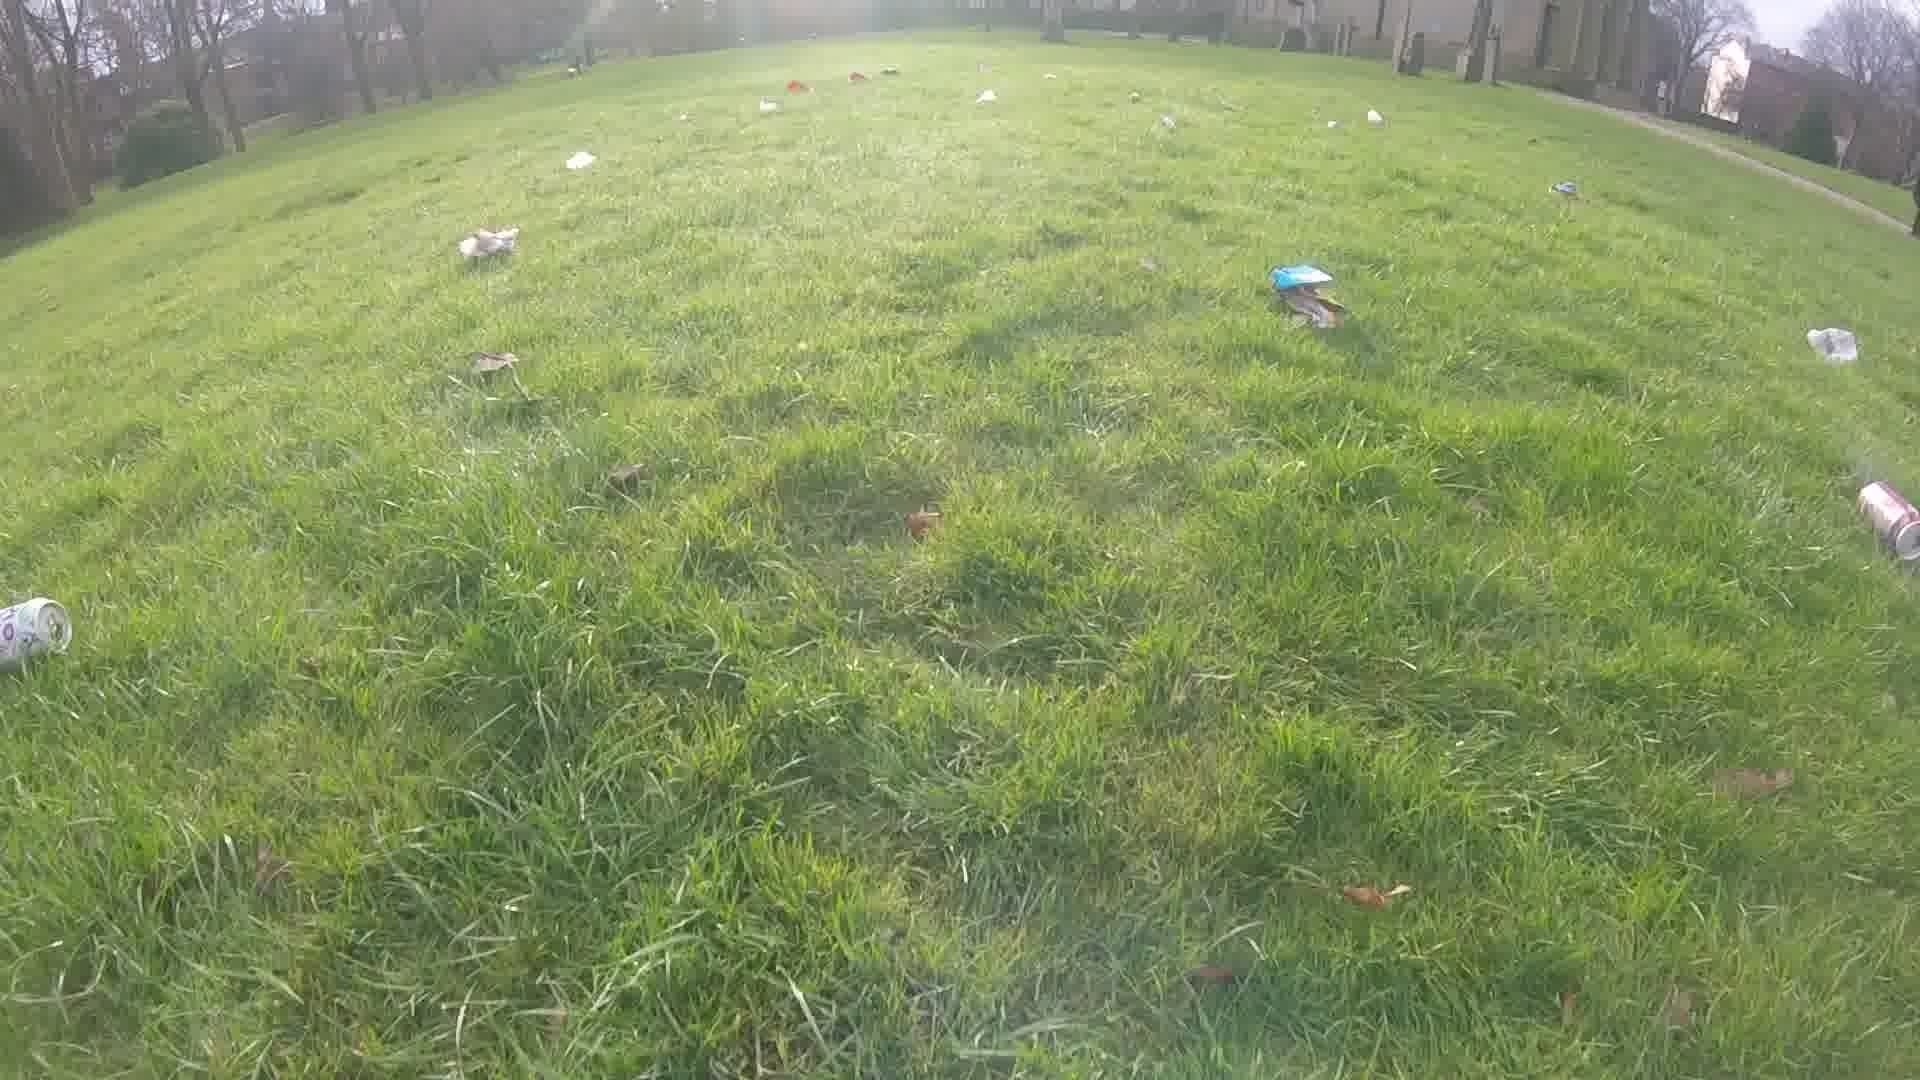litter: (1265, 261, 1349, 328), (1861, 479, 1920, 571), (3, 597, 62, 669), (1805, 324, 1857, 363), (451, 225, 513, 257), (556, 142, 600, 171), (1547, 179, 1581, 196), (870, 63, 902, 80), (969, 88, 1000, 105), (1156, 119, 1180, 140), (786, 80, 816, 96), (847, 69, 876, 84), (1317, 115, 1341, 132), (1038, 70, 1064, 84), (752, 99, 775, 115), (1360, 109, 1385, 121), (1116, 92, 1142, 102)
